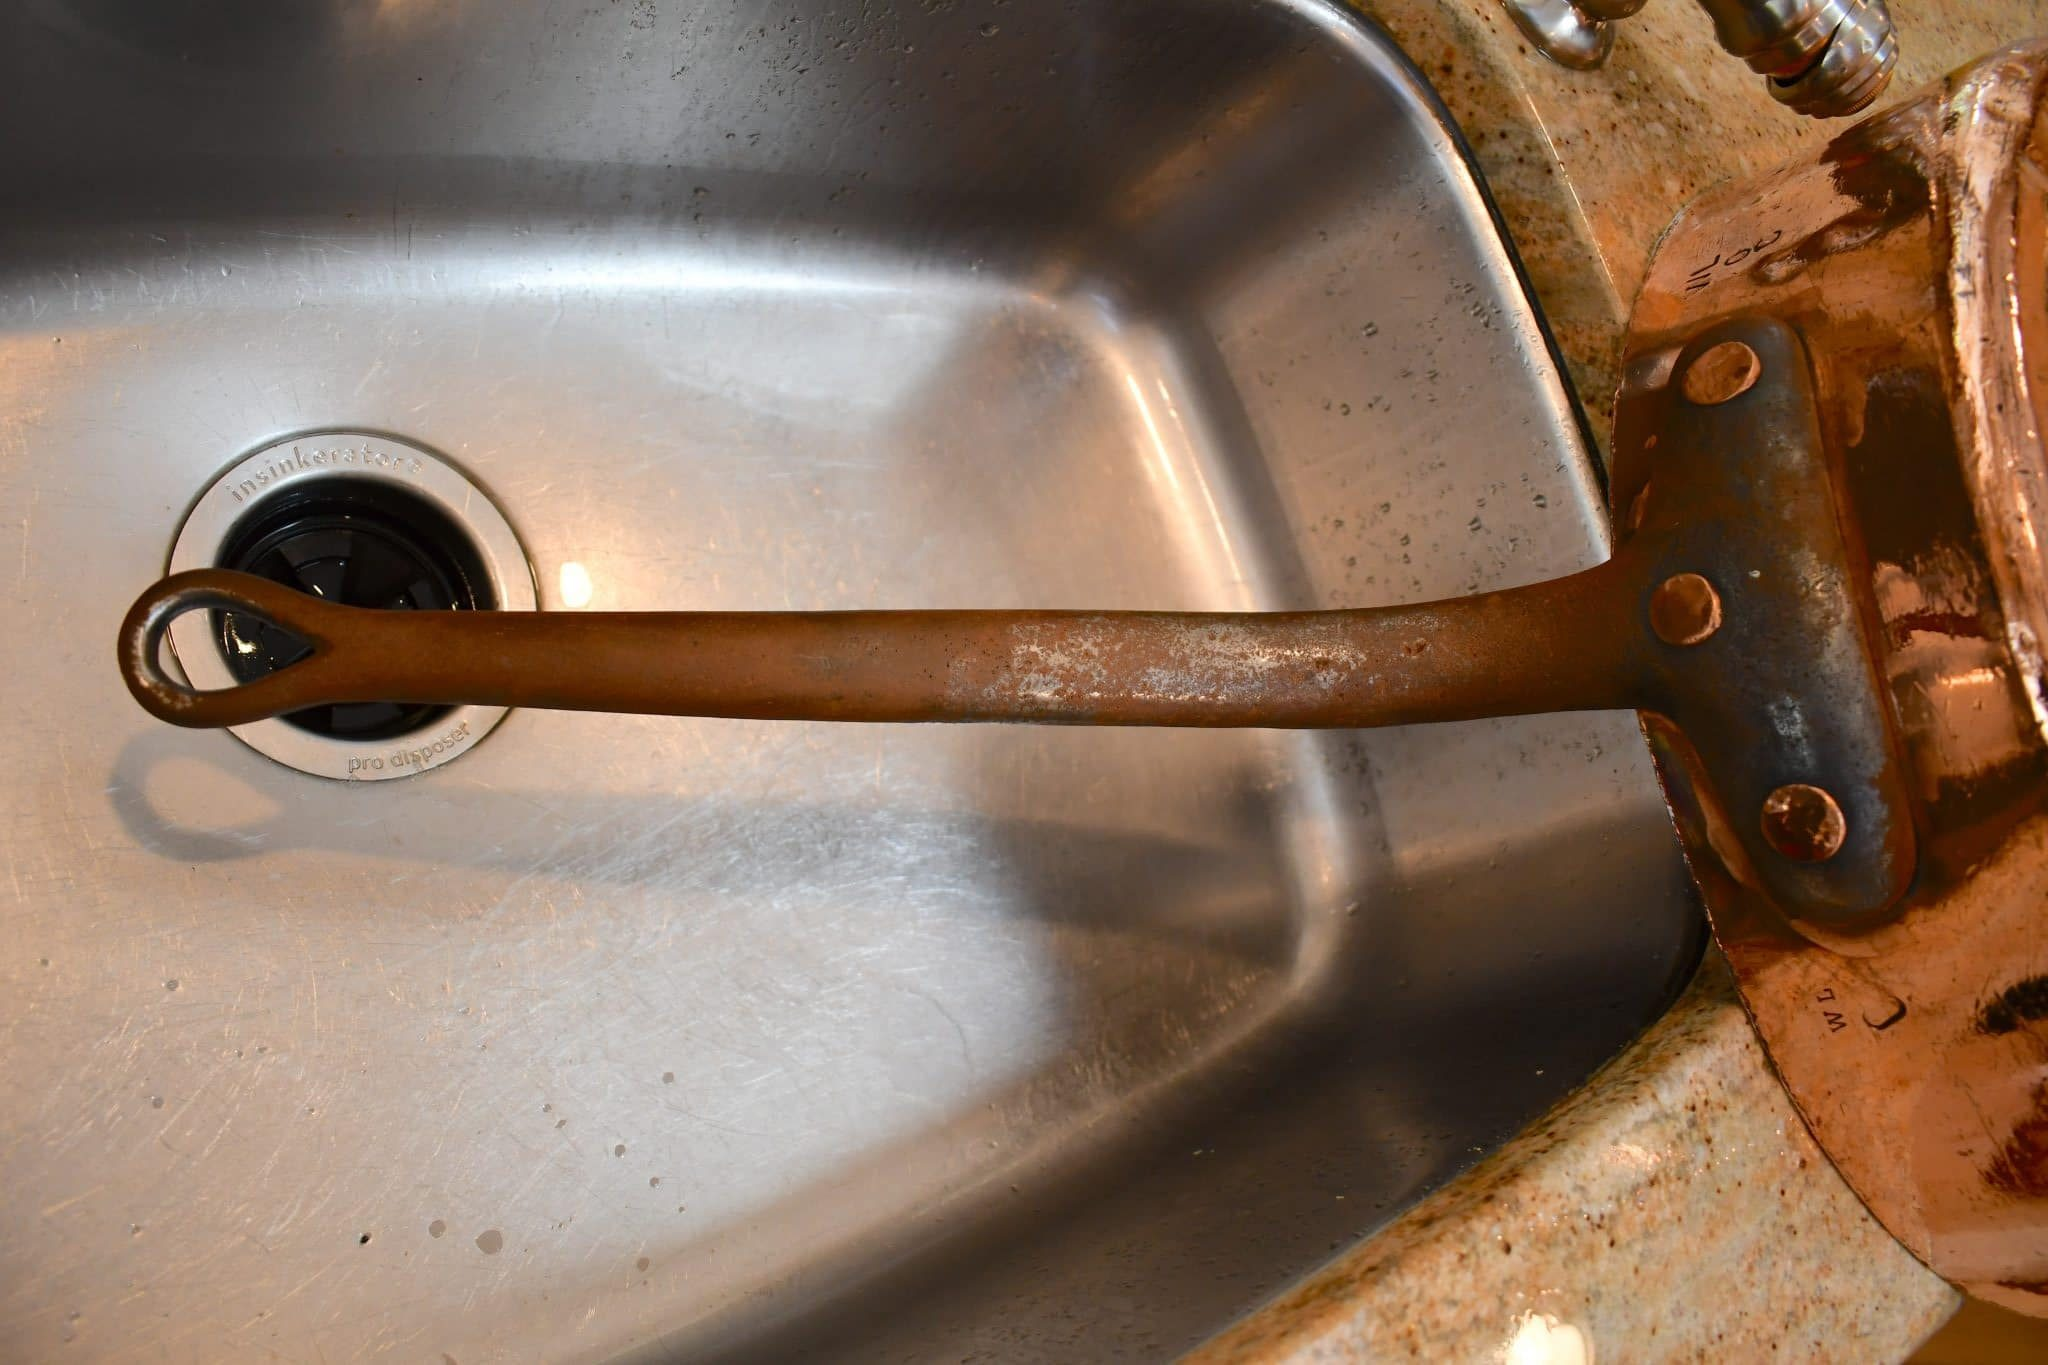rust: (183, 590, 1664, 707), (1810, 299, 2018, 794)
